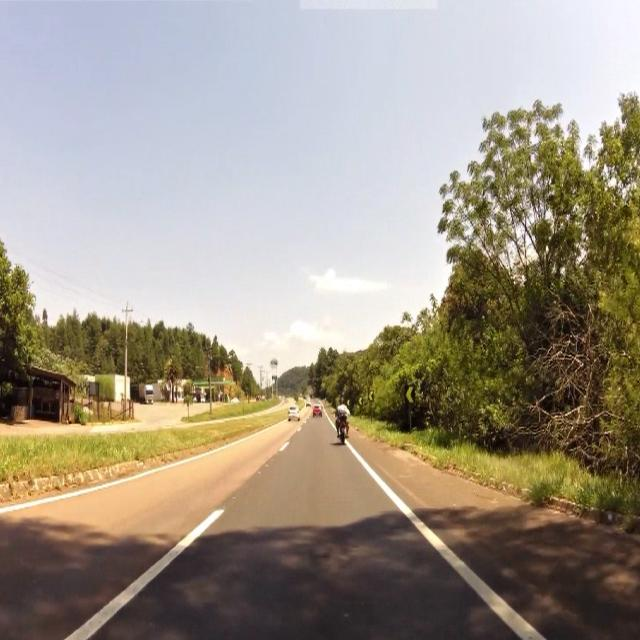Del: (405, 386, 417, 406), (369, 394, 375, 402), (358, 399, 363, 406), (346, 399, 351, 405)
